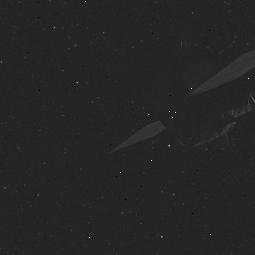xmm_newton: (100, 48, 255, 201)
